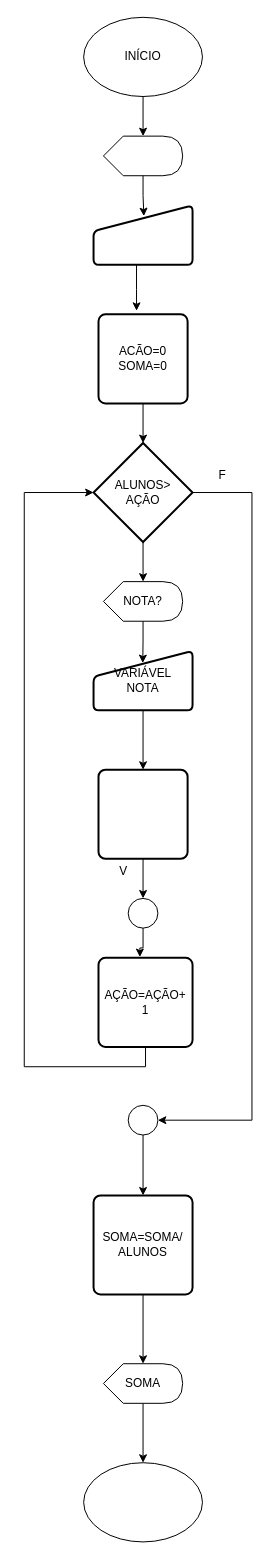
The diagram is 277 pixels wide and 1559 high, and some of its shapes have lost their labels. The centre of each missing label's shape, as x and y in pixels:
ALUNOS?: [142,155]
FINAL: [142,1502]
SOMA=SOMA+ NOTA: [142,813]
VARIÁVEL ALUNOS: [142,234]
